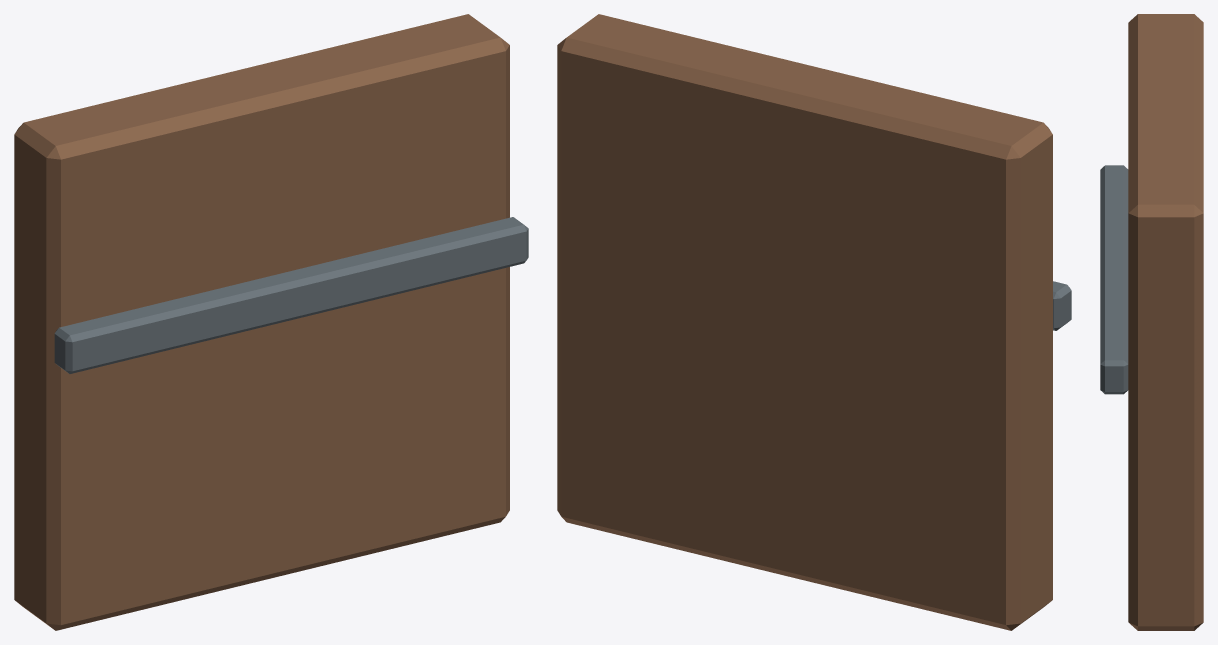
File: SM_DoorFragment.fbx
3 views of the same model, side by side, from view 1: azimuth 30°, elevation 25°; view 2: azimuth 150°, elevation 25°; view 3: azimuth 270°, elevation 25° (orthographic). The views are drawn at different scales.
Visible parts, largest first — view 1: SM_DoorFragment; view 2: SM_DoorFragment; view 3: SM_DoorFragment.
Boxes of the visible parts, x1,y1,x2,y2 form: SM_DoorFragment: (14,14,528,630); SM_DoorFragment: (557,14,1071,630); SM_DoorFragment: (1100,14,1203,630).
Size of the model in its own units: 100 by 22 by 100.
